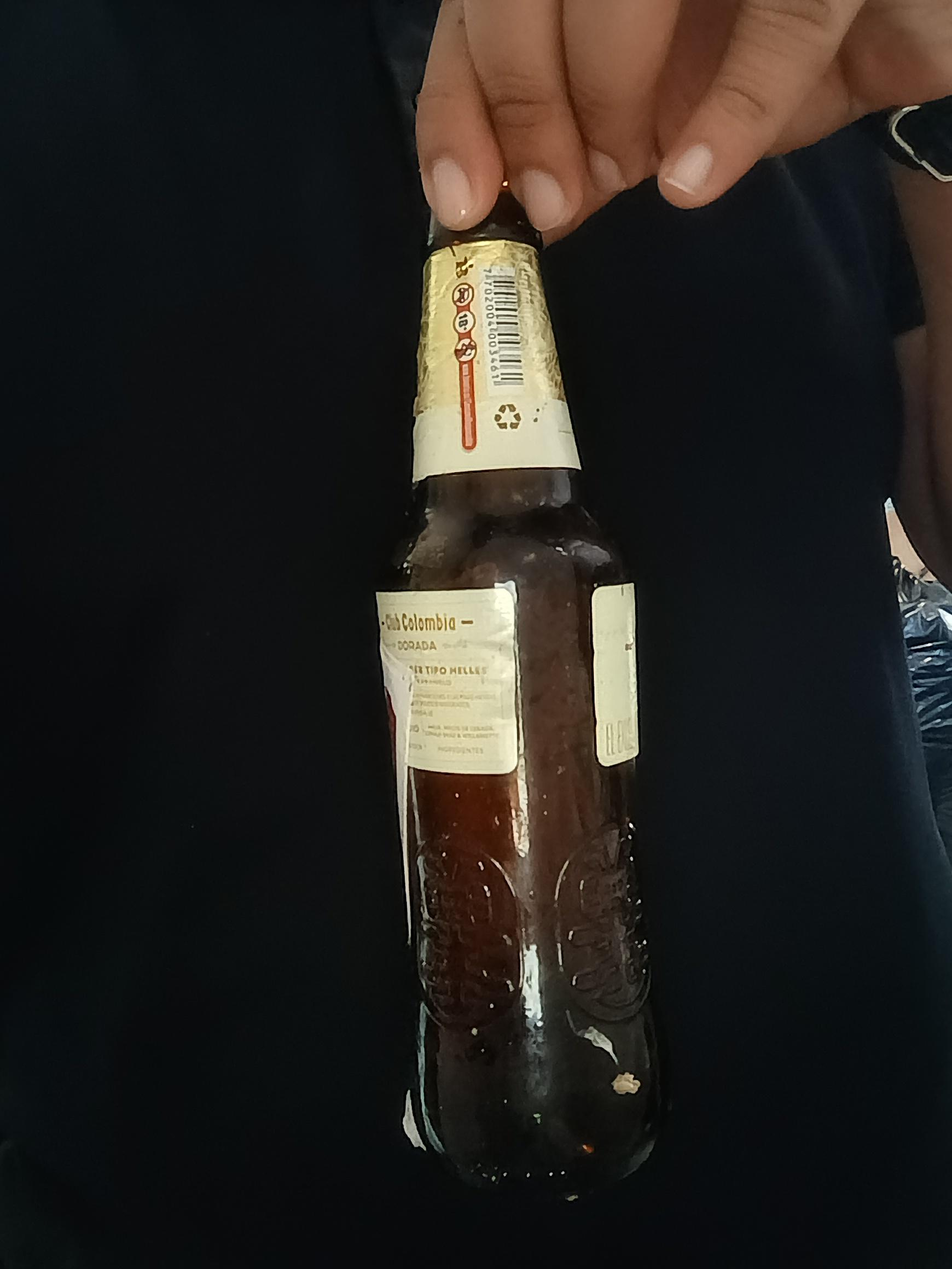Vidrio: (370, 189, 667, 1211)
